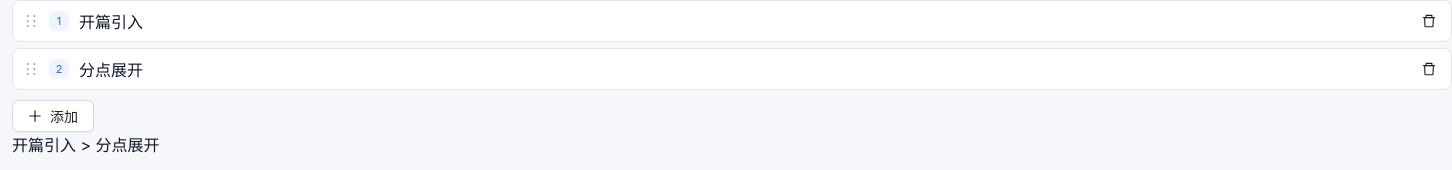
Test: SortableTextList › 删除某一项
Click the button named "删除「开篇引入」": (1429, 21) [1417,9,1441,33]
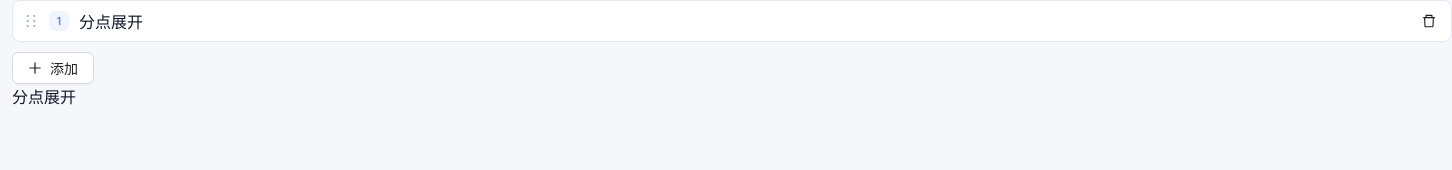
Check: the text with test id "order" reads "分点展开", box [12,87,76,107]
Check: the text "开篇引入" is gone
